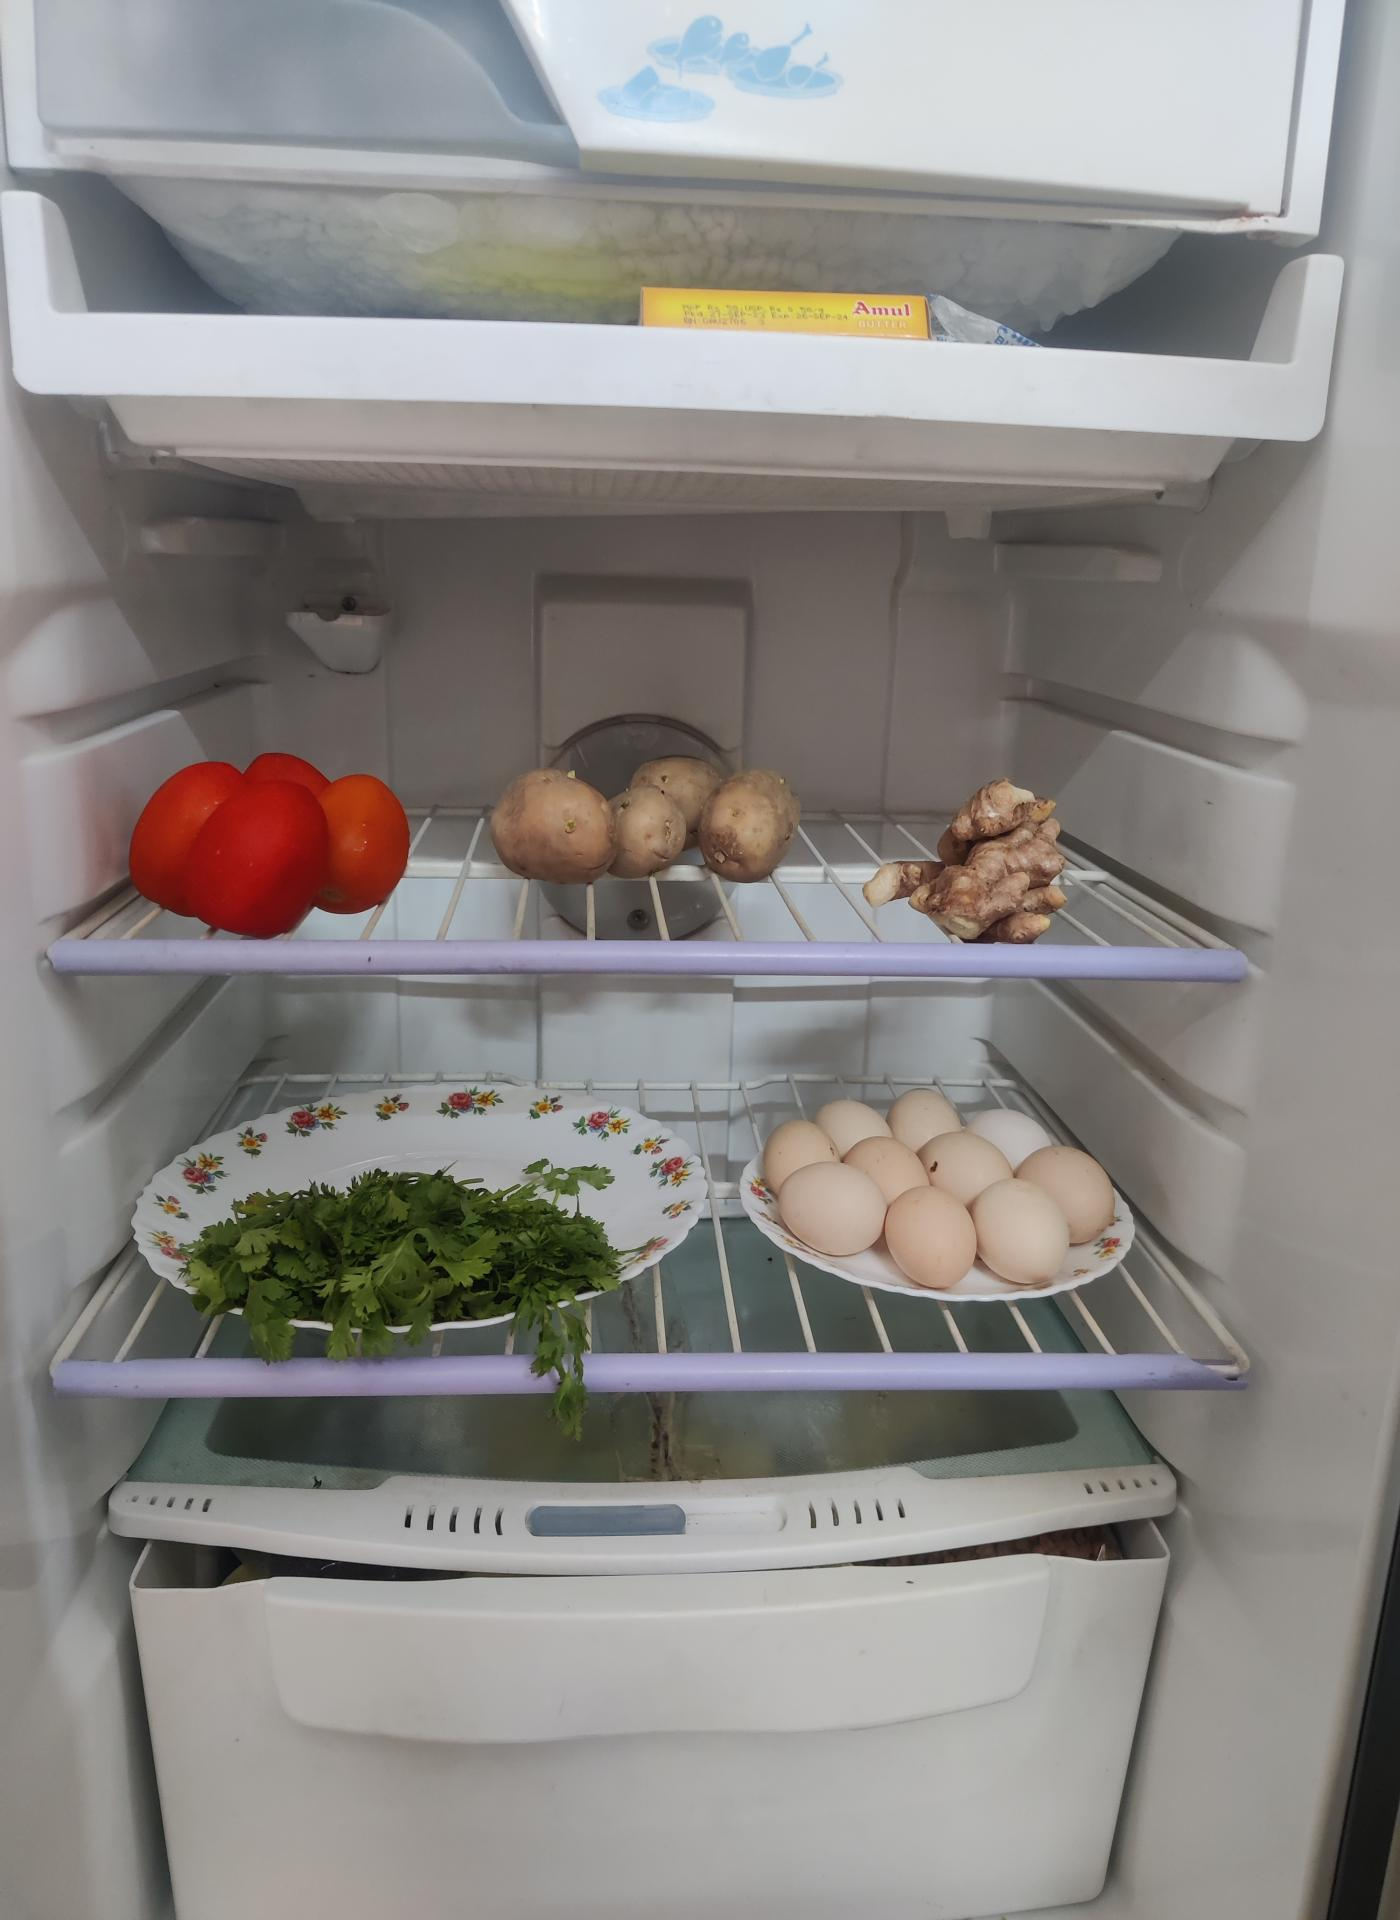coriander: (183, 1172, 626, 1348)
egg: (757, 1096, 1132, 1304)
ginger: (884, 778, 1071, 942)
potato: (489, 754, 808, 884)
tomato: (131, 751, 416, 938)
